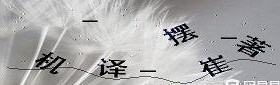chinese: (238, 33, 271, 64), (97, 57, 134, 81), (165, 23, 202, 47), (197, 55, 234, 79), (36, 53, 69, 75)
